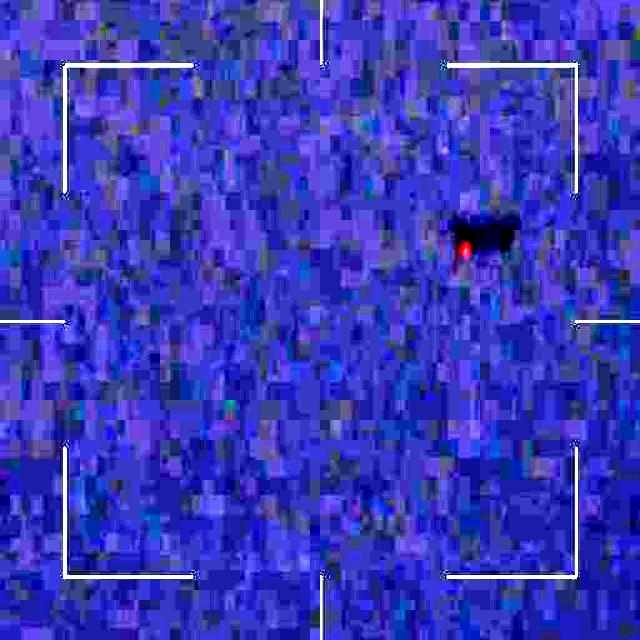bird: (452, 222, 492, 262)
